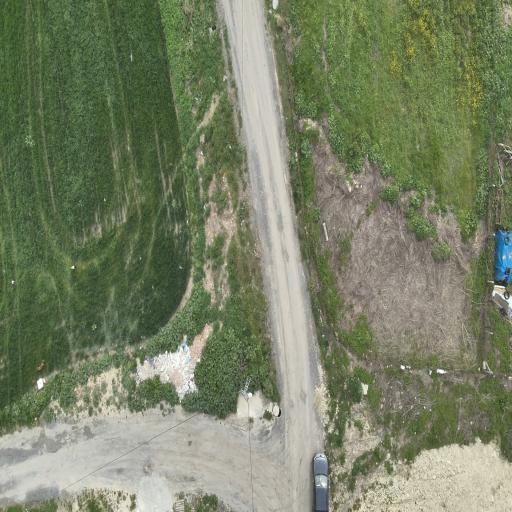car: (313, 454, 328, 511)
